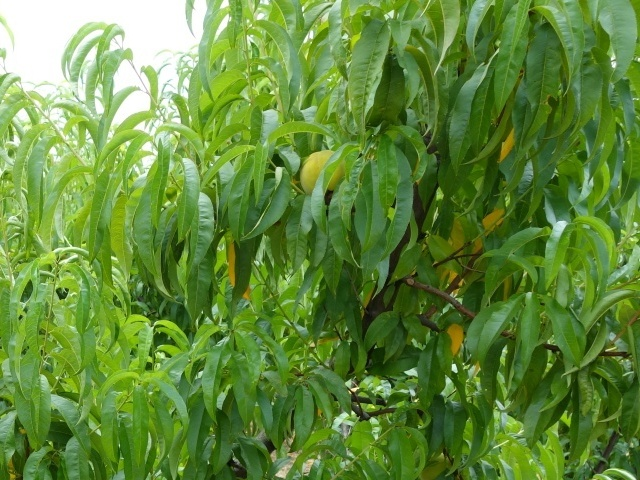peach: (296, 143, 344, 201)
